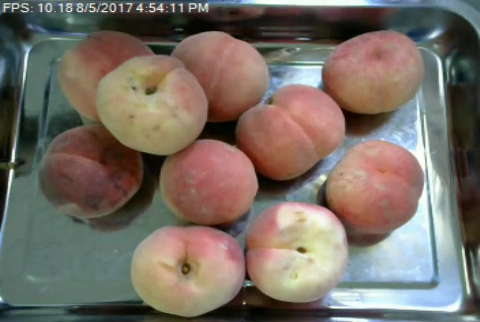Peach: (96, 54, 205, 155), (128, 224, 245, 318), (52, 28, 158, 130), (243, 202, 349, 303), (235, 85, 344, 182), (38, 123, 143, 216), (324, 139, 423, 236), (174, 30, 271, 120), (322, 28, 421, 116), (159, 138, 258, 225)
